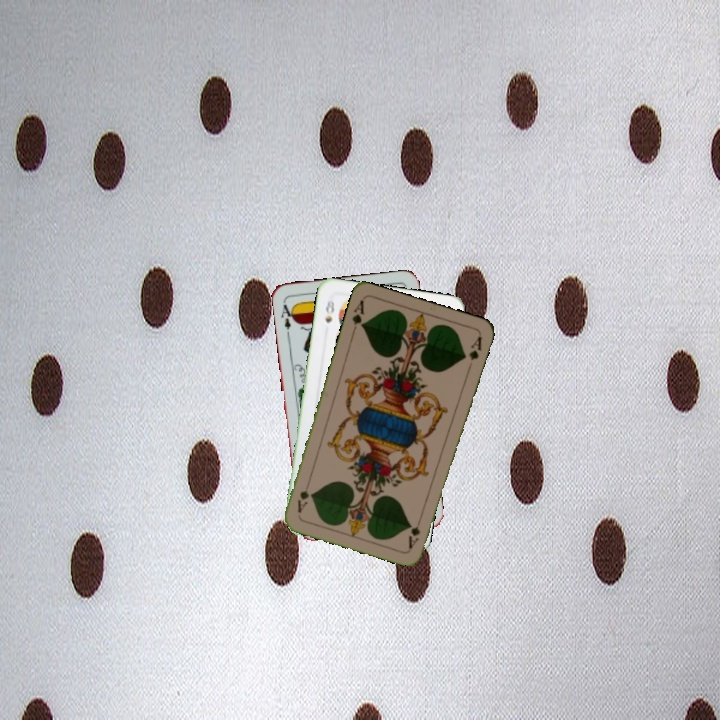EA: (277, 298, 297, 332)
GA: (404, 512, 425, 551), (348, 296, 367, 336)
S8: (321, 296, 337, 325)
